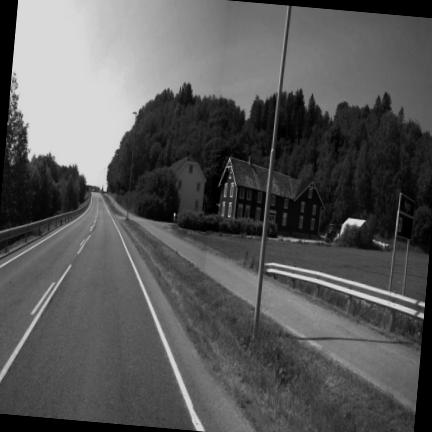Road: (0, 194, 253, 431)
